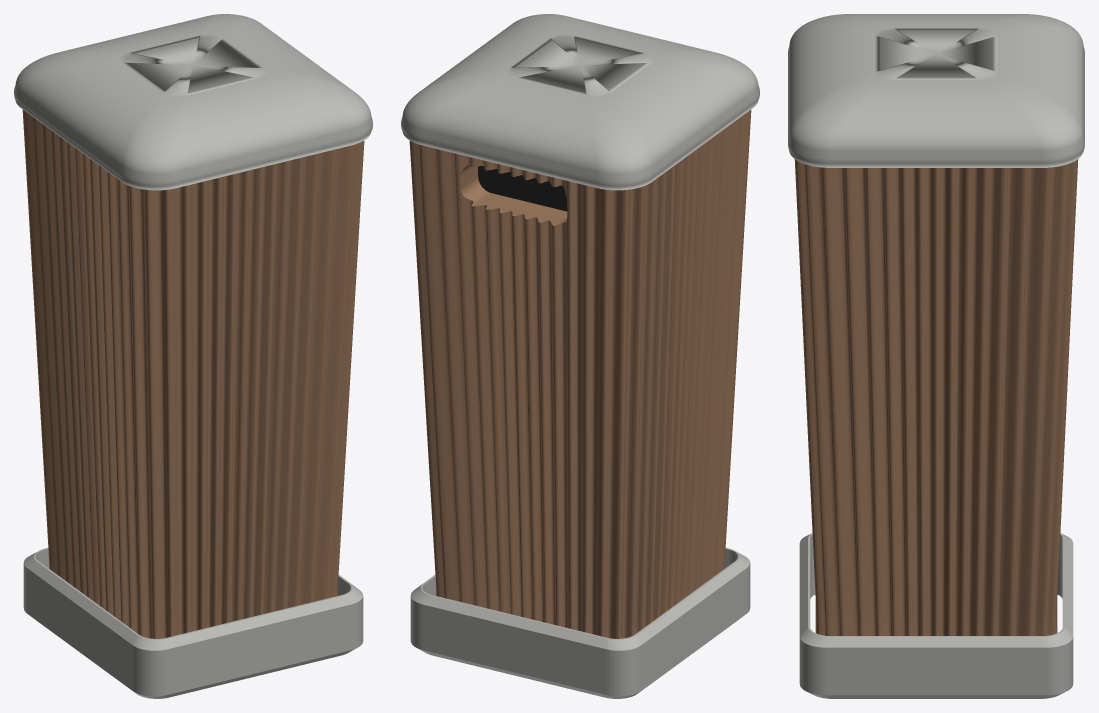
The model's file is 37-trash-bin-bs5.glb.
The picture shows the model from 3 angles, left to right: view 1: azimuth 30°, elevation 25°; view 2: azimuth 150°, elevation 25°; view 3: azimuth 270°, elevation 25°; orthographic projection. The views are drawn at different scales.
Parts seen in each view (by area): view 1: Body, Rim, Plinth; view 2: Body, Rim, Plinth, SlotPlate; view 3: Body, Rim, Plinth.
Part boxes in pixels (x1=…): Body: x1=22, y1=110, x2=364, y2=638; Rim: x1=14, y1=14, x2=372, y2=190; Plinth: x1=23, y1=547, x2=363, y2=698; Body: x1=409, y1=110, x2=751, y2=638; Rim: x1=401, y1=14, x2=759, y2=190; Plinth: x1=410, y1=547, x2=750, y2=698; SlotPlate: x1=478, y1=166, x2=567, y2=211; Body: x1=794, y1=159, x2=1078, y2=635; Rim: x1=788, y1=14, x2=1084, y2=167; Plinth: x1=799, y1=533, x2=1073, y2=698.
Bounding box in the file's own units: 1.13 × 2.5 × 1.13.
